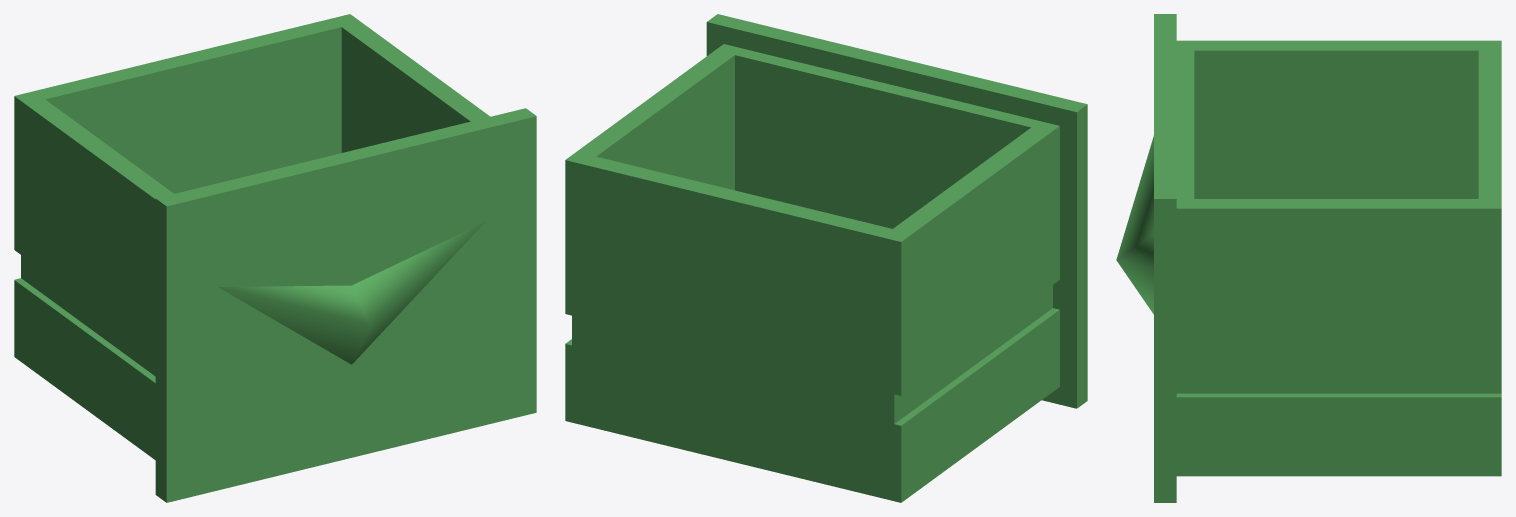
File: SM_VanityDresser_01h.fbx
3 views of the same model, side by side, from view 1: azimuth 30°, elevation 25°; view 2: azimuth 150°, elevation 25°; view 3: azimuth 270°, elevation 25° (orthographic). The views are drawn at different scales.
Parts seen in each view (by area): view 1: SM_VanityDresser_01h; view 2: SM_VanityDresser_01h; view 3: SM_VanityDresser_01h.
Boxes of the visible parts, x1,y1,x2,y2 form: SM_VanityDresser_01h: (14,14,536,502); SM_VanityDresser_01h: (565,14,1087,502); SM_VanityDresser_01h: (1116,14,1501,502).
Bounding box in the file's own units: 0.8726 × 0.6681 × 0.7678.
